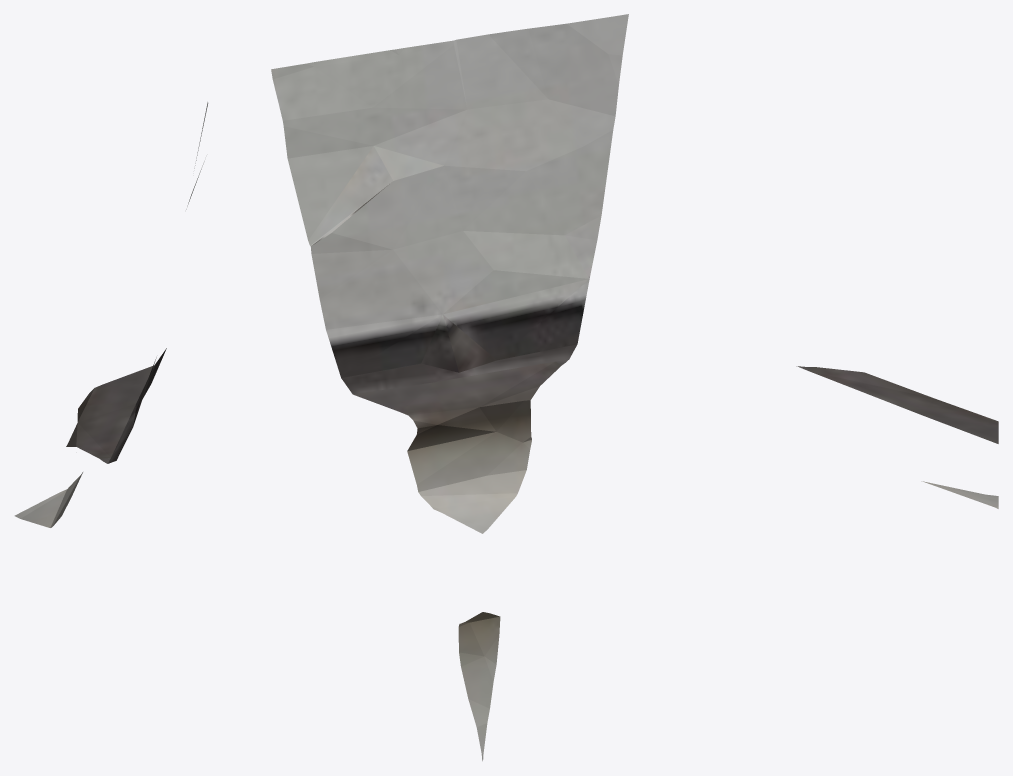
3 views of the same model, side by side, from view 1: azimuth 30°, elevation 25°; view 2: azimuth 150°, elevation 25°; view 3: azimuth 270°, elevation 25° (orthographic). The views are drawn at different scales.
Bounding box in the file's own units: 0.1667 × 0.4822 × 0.1992.
1 material, 1 textured.
